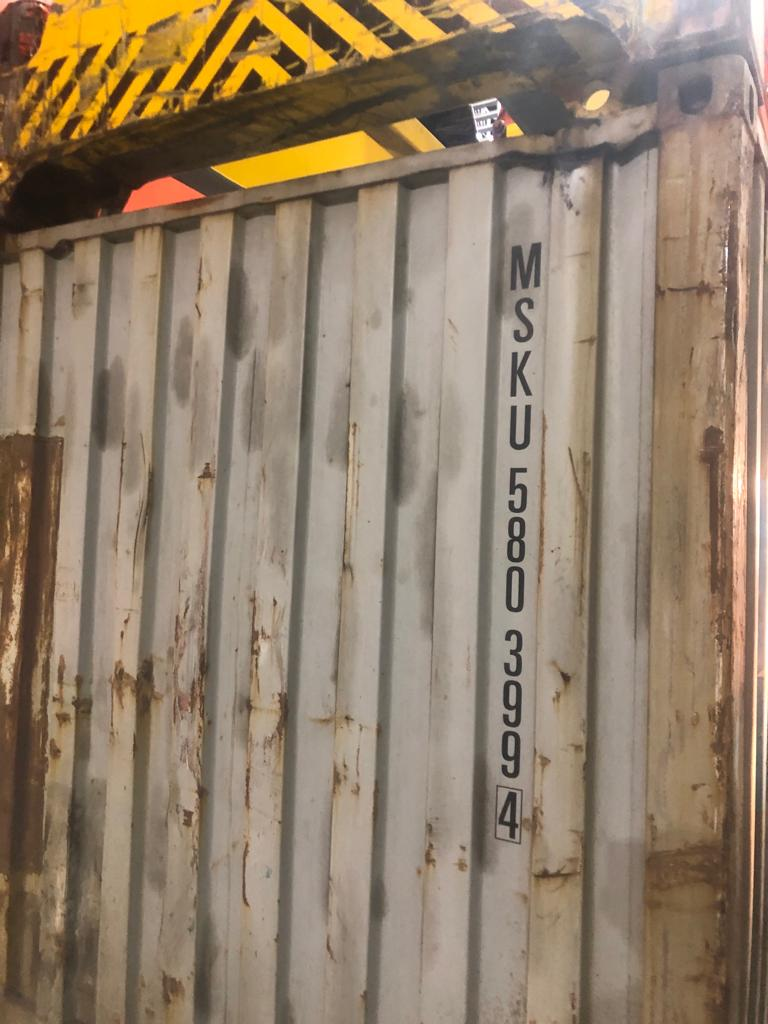dented: (471, 110, 635, 197)
rust: (45, 609, 385, 789), (686, 409, 744, 610)
